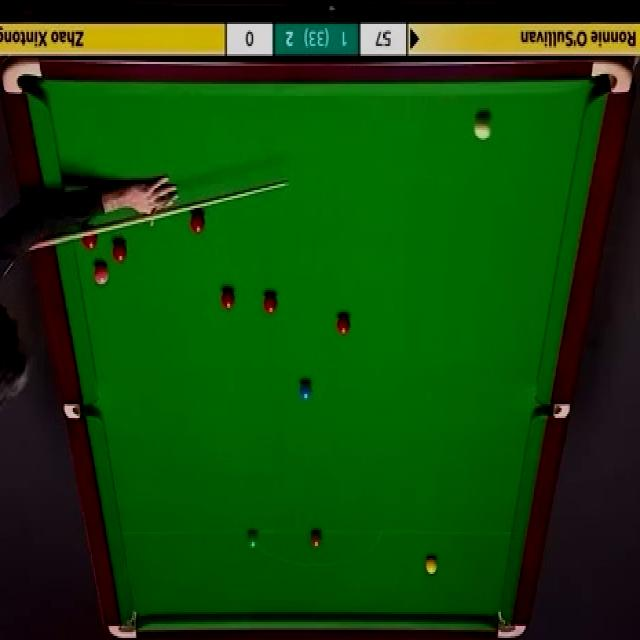pocket: (1, 60, 43, 98), (592, 60, 632, 95), (495, 608, 528, 640), (110, 610, 139, 638), (65, 403, 99, 420), (538, 403, 572, 417)
